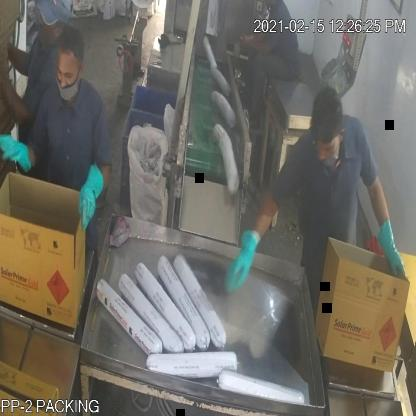glove: (69, 156, 109, 234), (225, 222, 259, 296), (373, 211, 407, 283), (0, 130, 31, 174)
no_glove: (0, 64, 31, 124), (231, 29, 275, 58), (3, 42, 34, 72)
